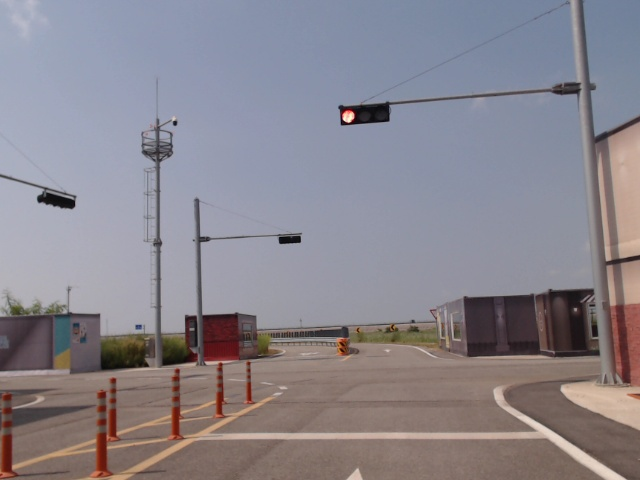red_3: (341, 102, 389, 125)
